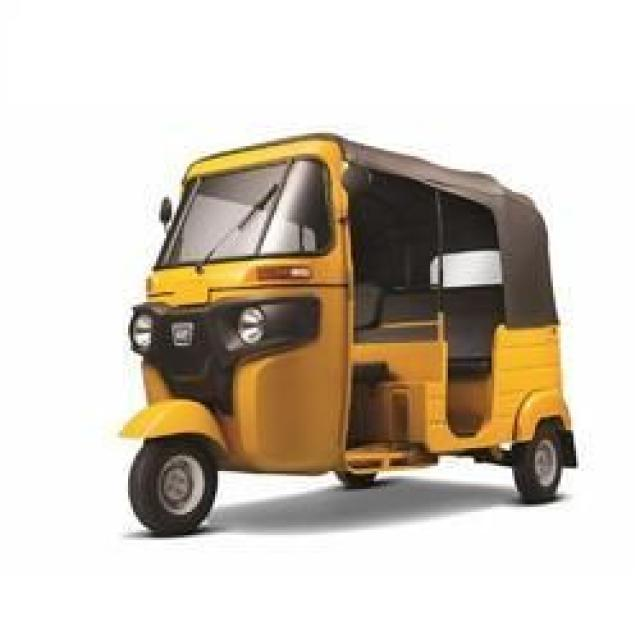autorickshaw: (122, 134, 575, 534)
